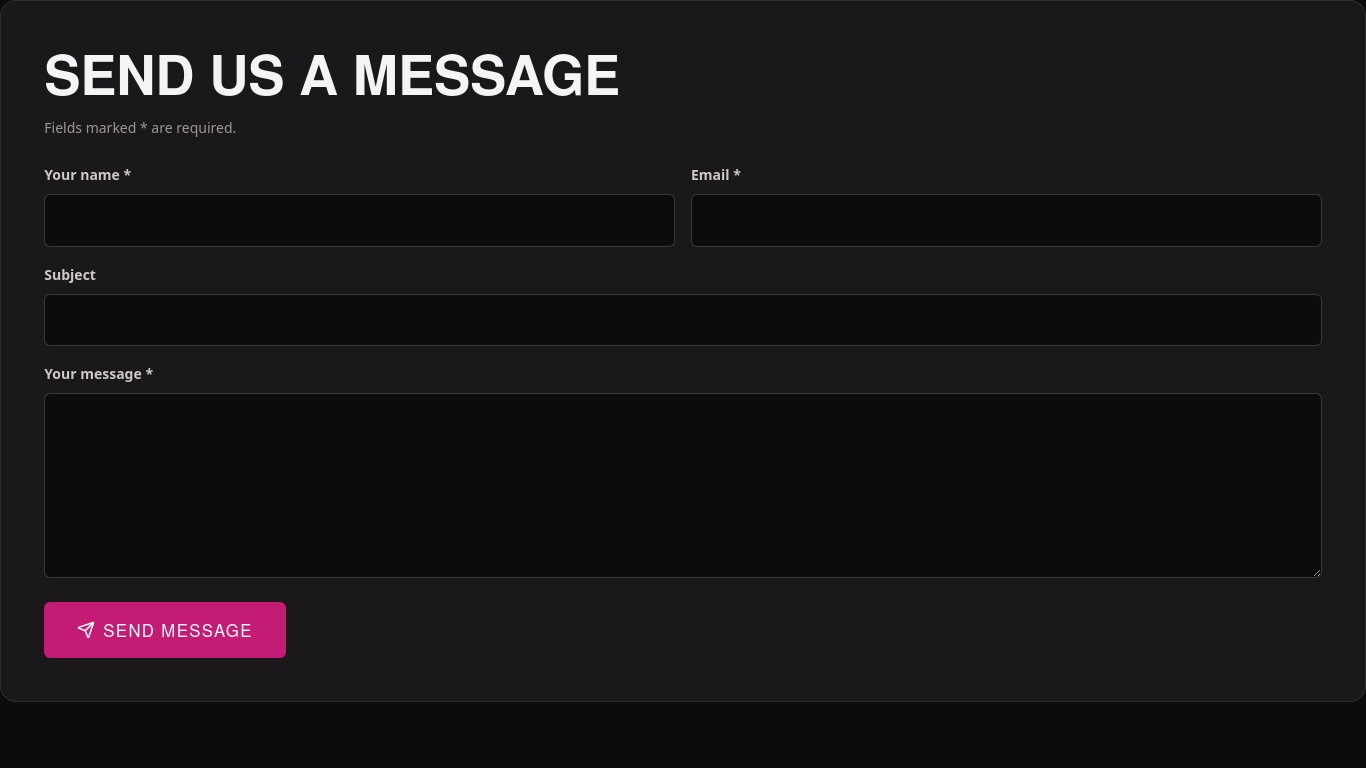
contact form › shows an error, not success, when the endpoint fails
In the field labelled "Your name *": (360,220) [44, 194, 675, 247], type "Asha"
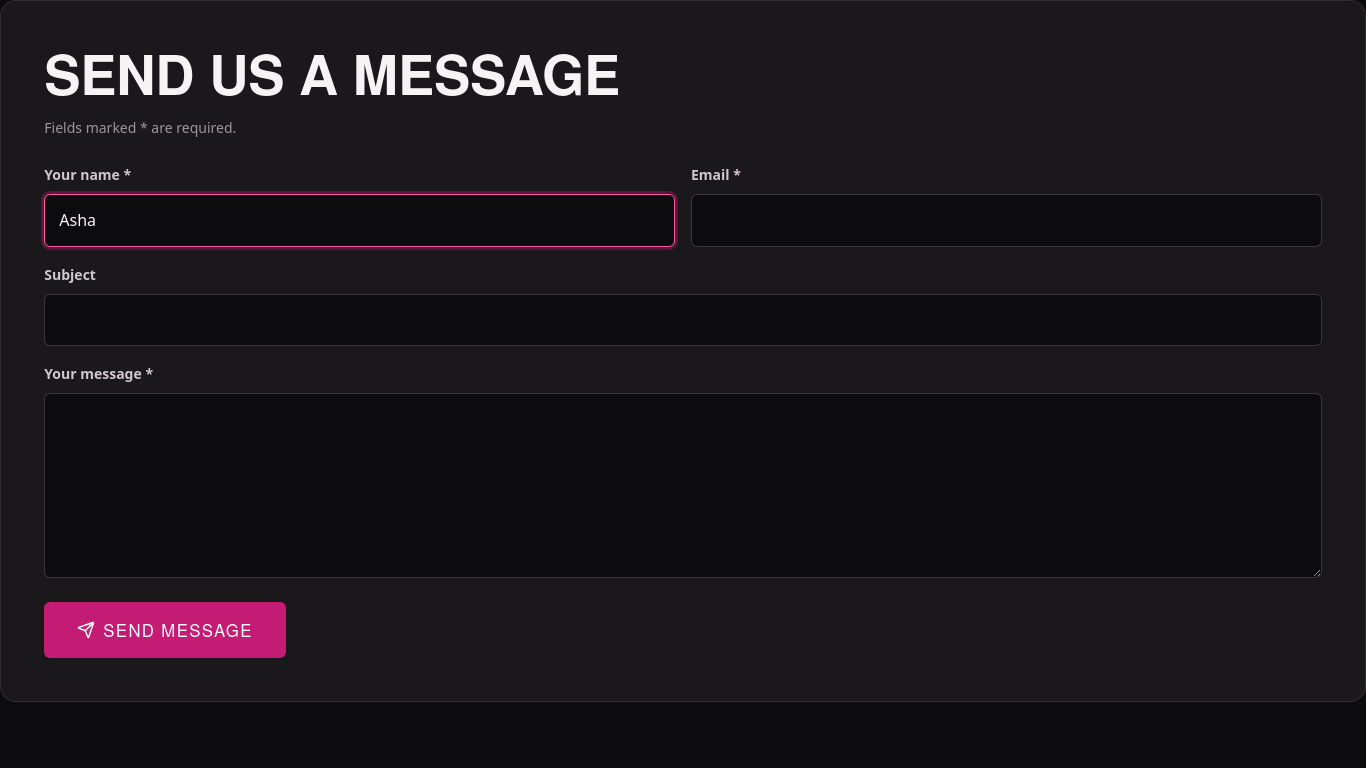
In the field labelled "Email *": (1006,220) [691, 194, 1322, 247], type "asha@example.com"
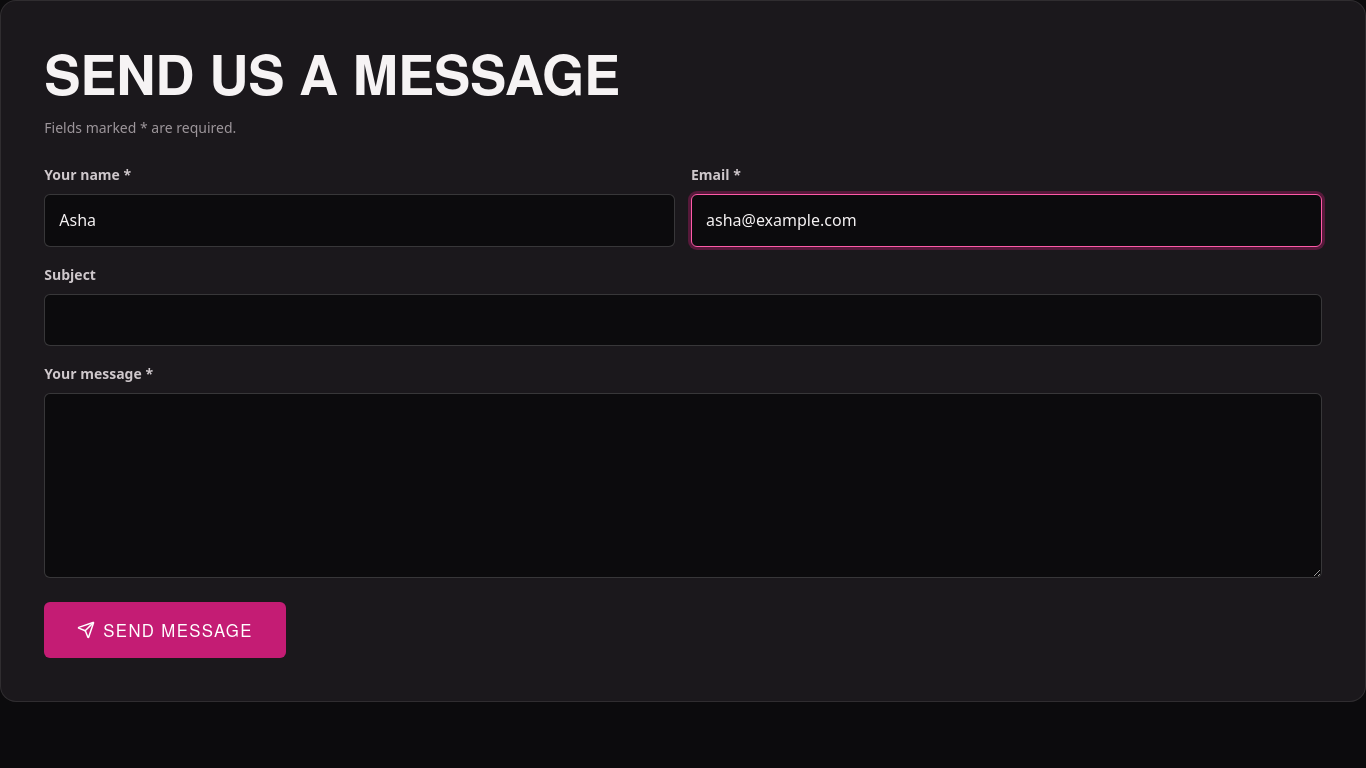
In the text box labelled "Your message *": (683,485) [44, 393, 1322, 578], type "Hello"
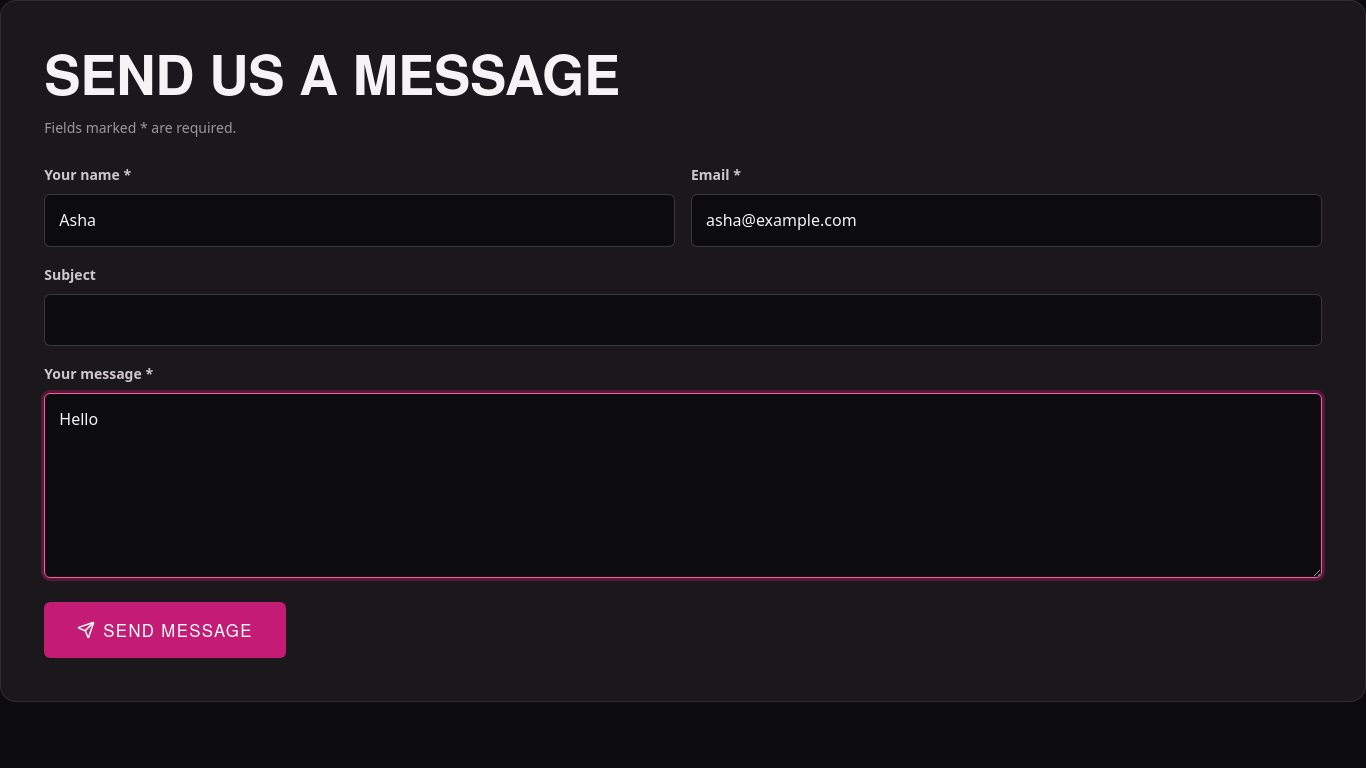
Click the button "Send message": (165,630) [44, 602, 286, 658]
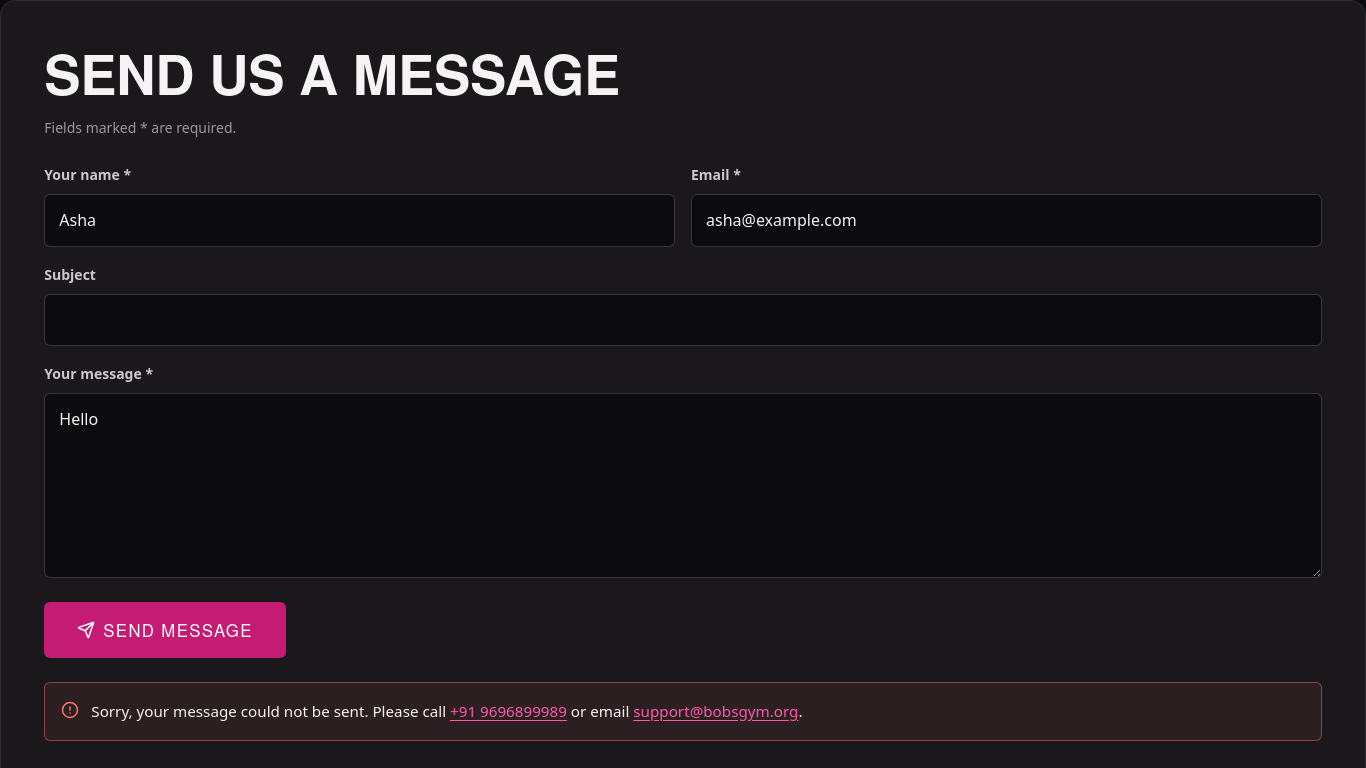
Result: the text "could not be sent" is shown at [91, 701, 450, 721]
